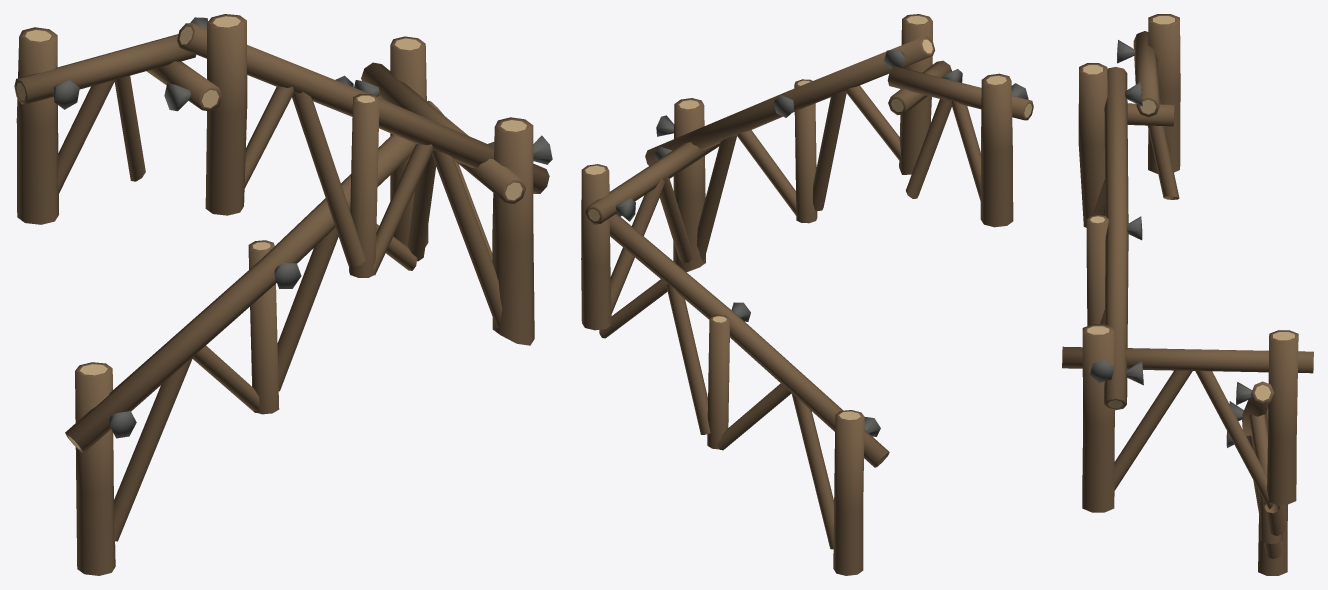
Rendered from rpgpp_ag_stairs_interior_02e_4m_handrail_02.fbx.
3 views of the same model, side by side, from view 1: azimuth 30°, elevation 25°; view 2: azimuth 150°, elevation 25°; view 3: azimuth 270°, elevation 25° (orthographic). The views are drawn at different scales.
Visible parts, largest first — view 1: rpgpp_ag_stairs_interior_02e_4m_handrail_02; view 2: rpgpp_ag_stairs_interior_02e_4m_handrail_02; view 3: rpgpp_ag_stairs_interior_02e_4m_handrail_02.
Part boxes in pixels (x1,y1,x2,y2): rpgpp_ag_stairs_interior_02e_4m_handrail_02: (14,14,552,575); rpgpp_ag_stairs_interior_02e_4m_handrail_02: (581,14,1033,575); rpgpp_ag_stairs_interior_02e_4m_handrail_02: (1062,14,1313,575).
Bounding box in the file's own units: 4.47 × 5.22 × 2.34.
